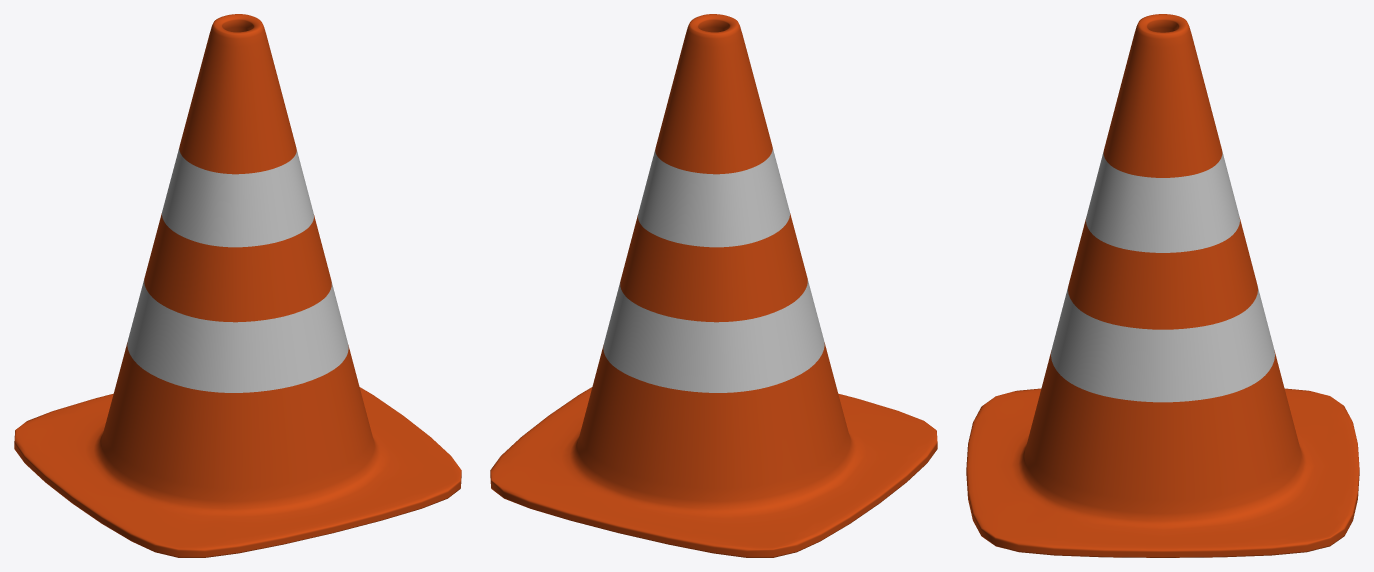
The model's file is plot.glb.
3 views of the same model, side by side, from view 1: azimuth 30°, elevation 25°; view 2: azimuth 150°, elevation 25°; view 3: azimuth 270°, elevation 25° (orthographic). The views are drawn at different scales.
Visible parts, largest first — view 1: Asset3DLoader.sceneRoot; view 2: Asset3DLoader.sceneRoot; view 3: Asset3DLoader.sceneRoot.
Part boxes in pixels (bbox=[...]): Asset3DLoader.sceneRoot: bbox=[14, 14, 461, 557]; Asset3DLoader.sceneRoot: bbox=[490, 14, 937, 557]; Asset3DLoader.sceneRoot: bbox=[966, 14, 1359, 557].
Bounding box in the file's own units: 0.8186 × 1.04 × 0.8186.
